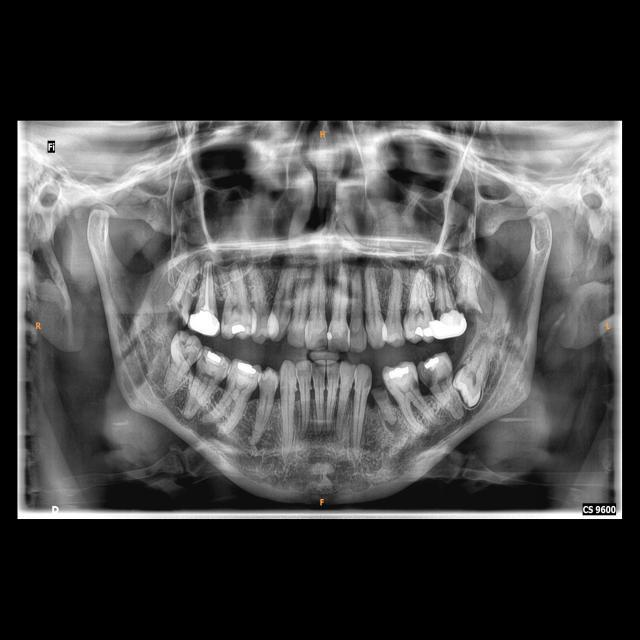dentin-curugu: (418, 366, 438, 390)
dolgu: (412, 318, 436, 341), (234, 359, 262, 378), (224, 322, 250, 338), (420, 352, 442, 370), (202, 350, 224, 365), (324, 328, 336, 342)
kanal-tedavisi: (200, 265, 213, 311)
kaplama: (437, 310, 466, 336), (192, 311, 221, 333)
kirik: (168, 298, 192, 326), (459, 296, 485, 316), (371, 386, 391, 407)
